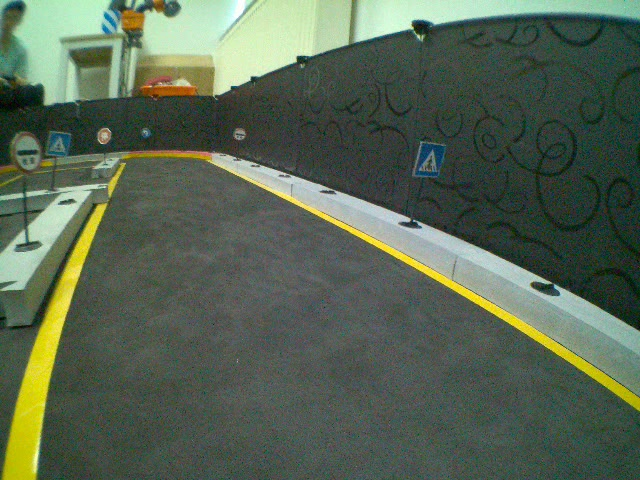Check: (9, 129, 42, 174), (233, 126, 248, 142)
crossing: (410, 139, 449, 180), (46, 129, 72, 158), (96, 126, 112, 144)
turn: (139, 126, 150, 138)
